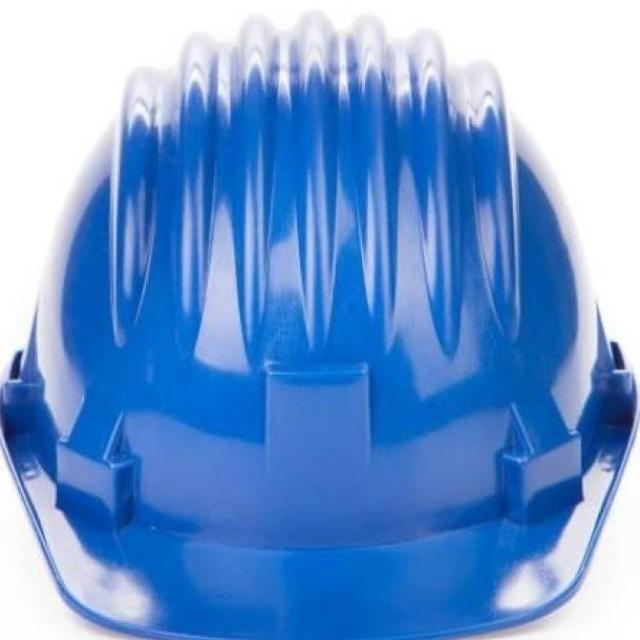blue helmet: (1, 6, 640, 640)
